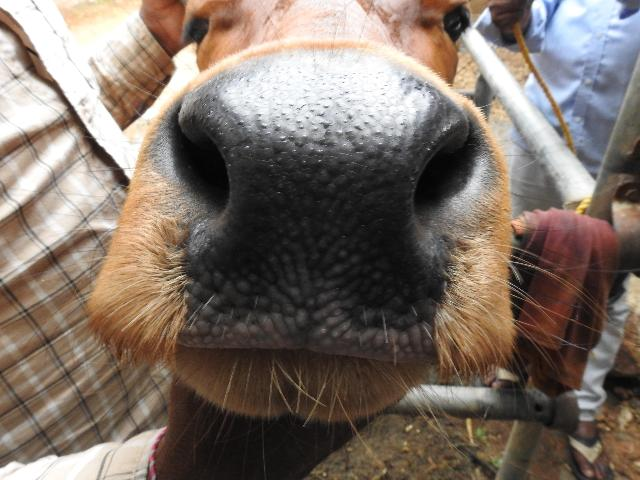Muzzle: (205, 76, 432, 344)
